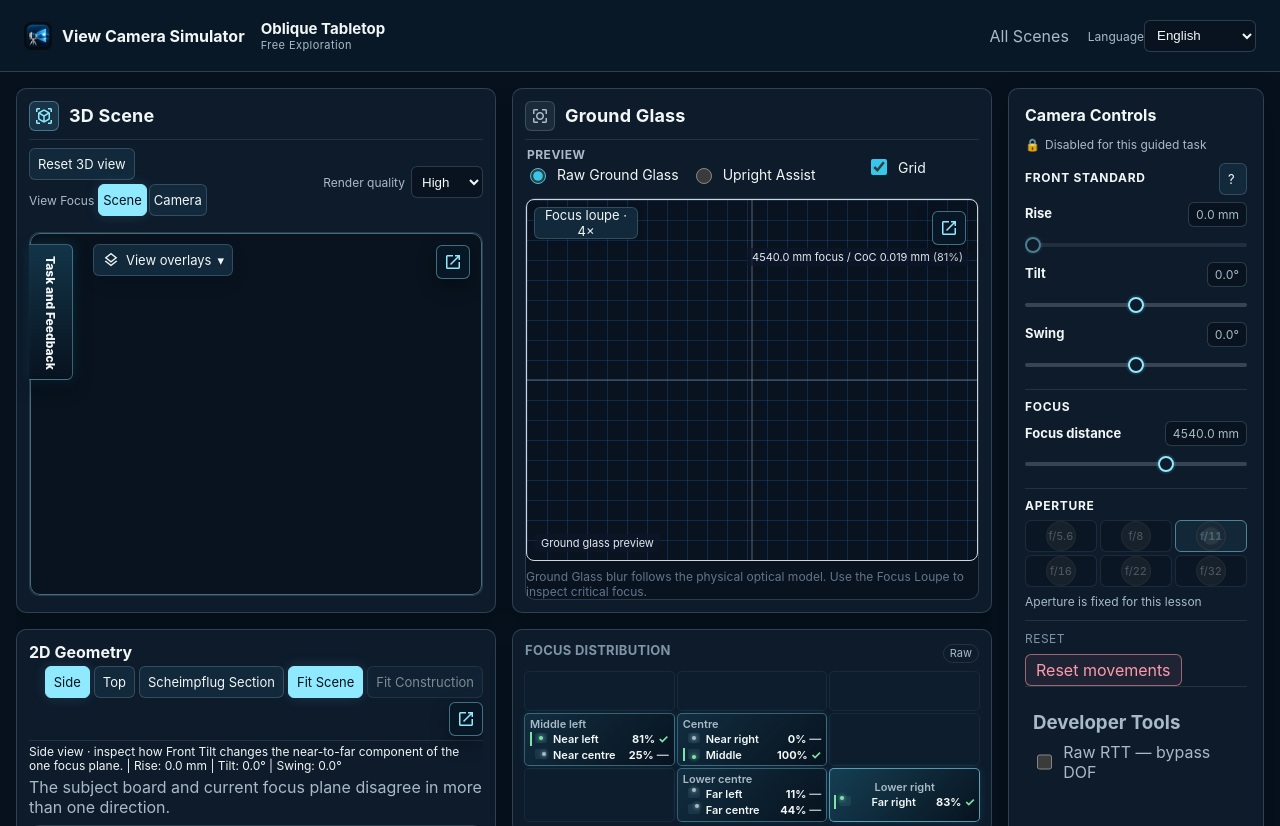
Test: scene-aware learner readouts › keeps Focus distribution synchronized with the actual Ground Glass orientation control
This screenshot has width=1280, height=826.
Expected: the text with test id "focus-distribution-orientation" reads "Raw", [950, 646, 972, 660]
Click the radio button labelled "Upright Assist" at (704, 176), box [696, 168, 712, 184]
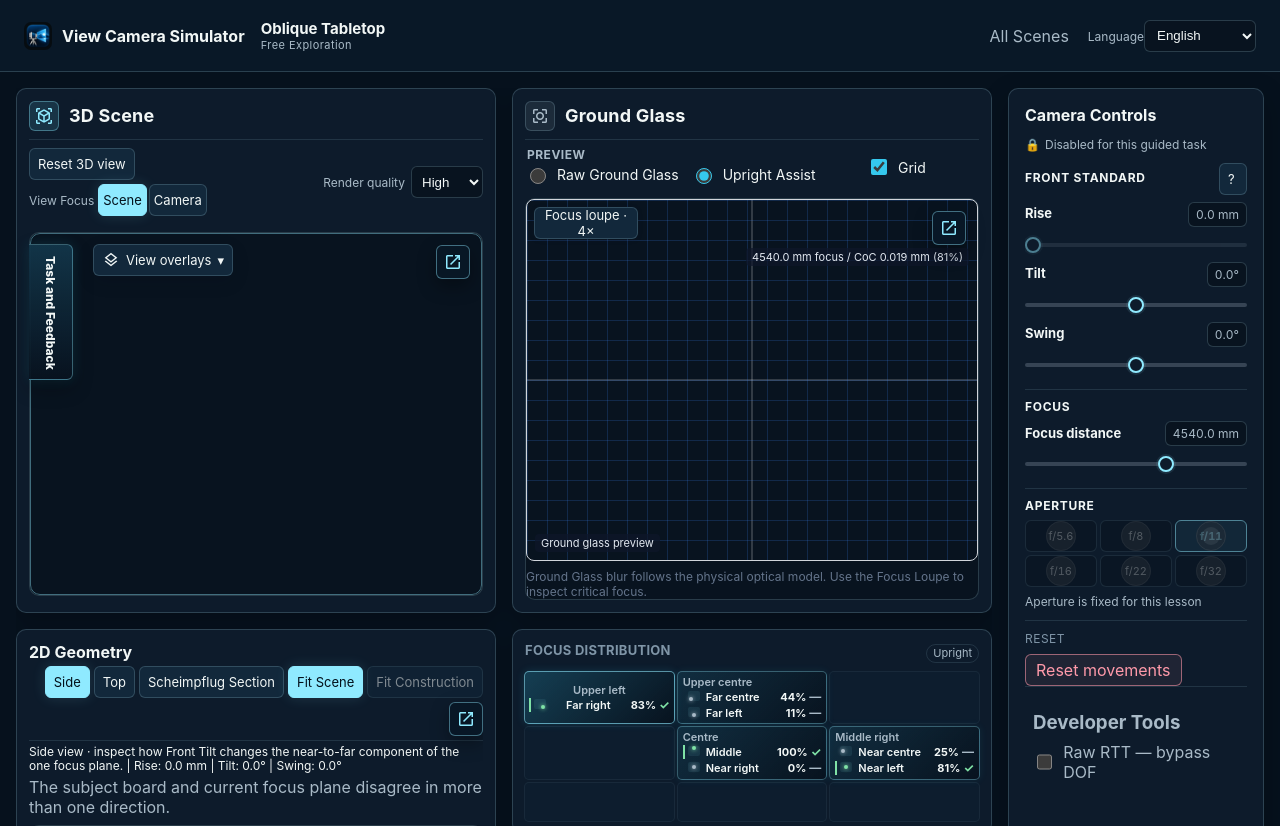
Now the text with test id "focus-distribution-orientation" reads "Upright", box [933, 646, 972, 660]
Click the radio button labelled "Raw Ground Glass" at (538, 176), box [530, 168, 546, 184]
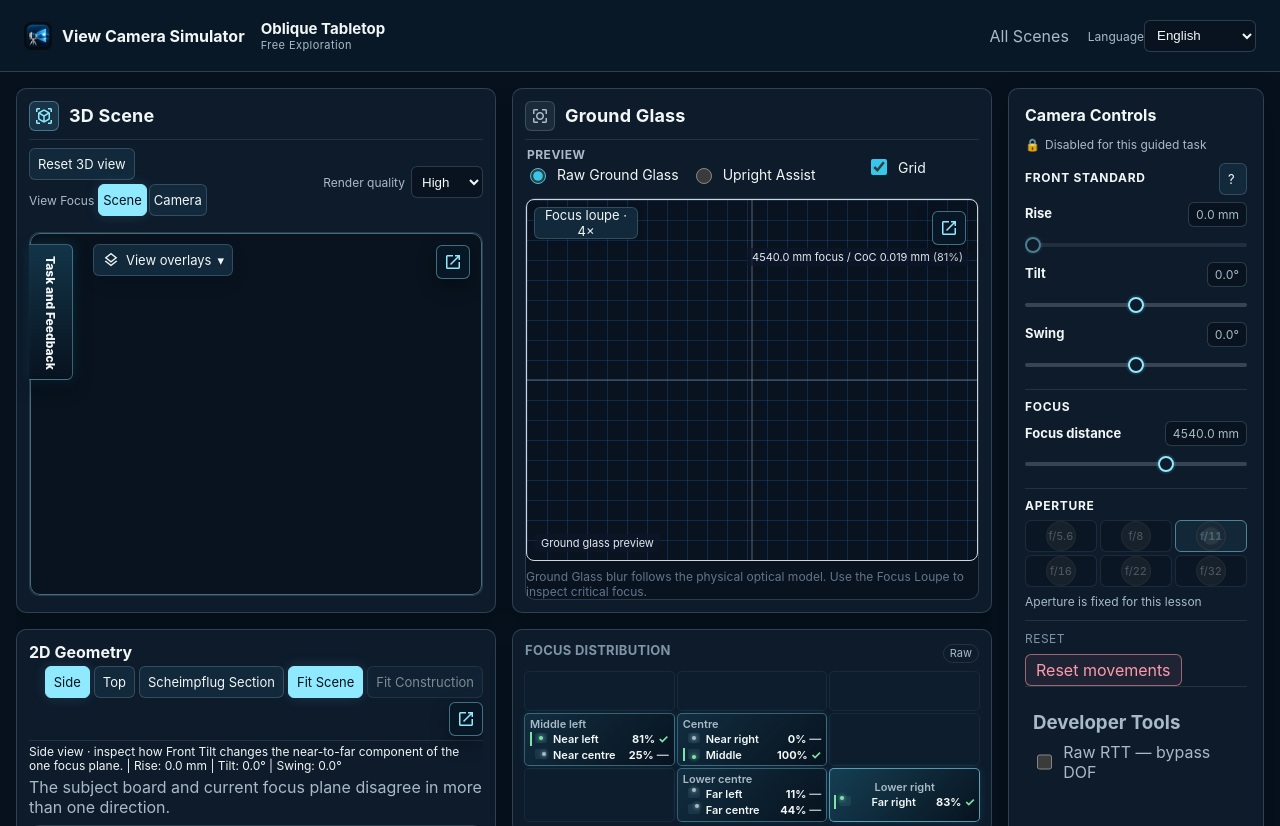
Now the text with test id "focus-distribution-orientation" reads "Raw", box [950, 646, 972, 660]
